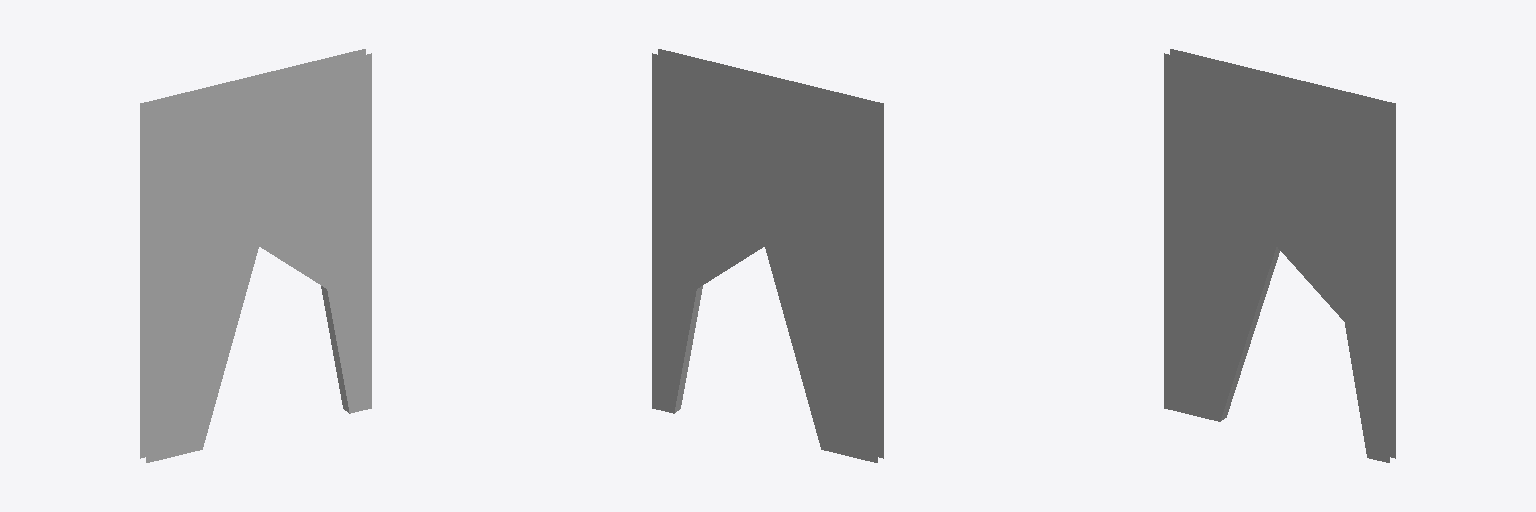
The model's file is Shattered_3.obj.
The picture shows the model from 3 angles: view 1: azimuth 30°, elevation 25°; view 2: azimuth 150°, elevation 25°; view 3: azimuth 330°, elevation 25°; orthographic projection.
Parts seen in each view (by area): view 1: Shattered_3; view 2: Shattered_3; view 3: Shattered_3.
Boxes of the visible parts, box(x1,y1,x2,y2) form: Shattered_3: box(140, 49, 371, 462); Shattered_3: box(652, 49, 883, 462); Shattered_3: box(1164, 49, 1395, 462).
Size of the model in its own units: 20 by 30 by 1.